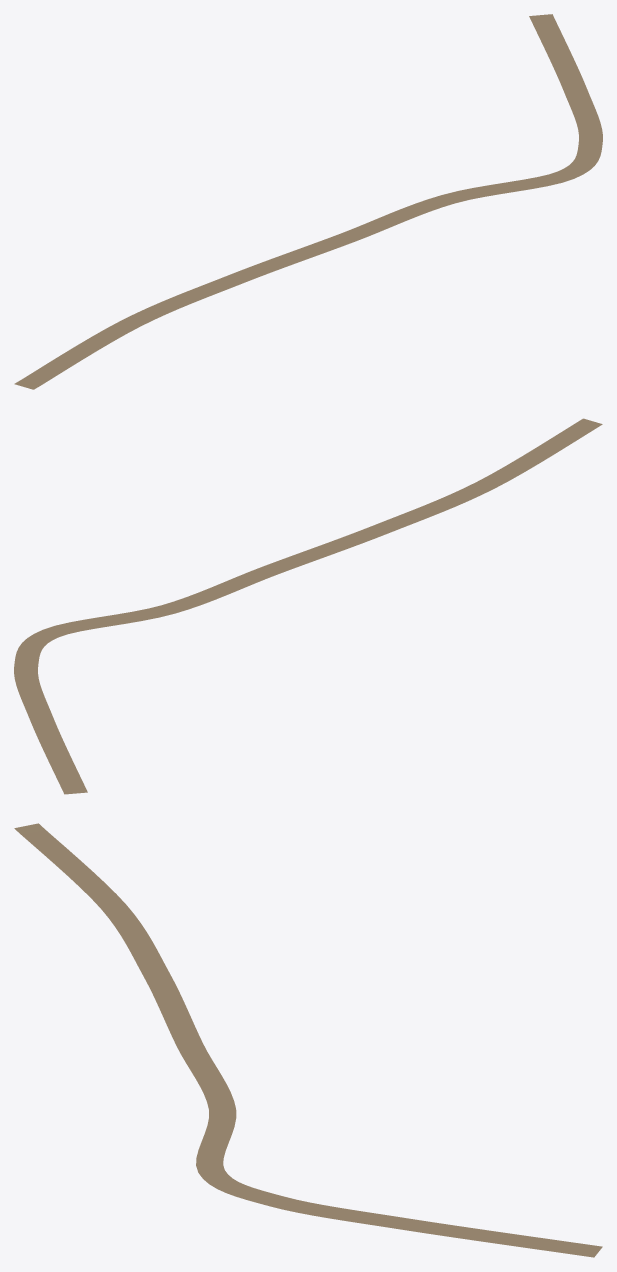
The model's file is Road_Main.fbx.
3 views of the same model, one above another, from view 1: azimuth 30°, elevation 25°; view 2: azimuth 210°, elevation 25°; view 3: azimuth 270°, elevation 25° (orthographic). The views are drawn at different scales.
Parts seen in each view (by area): view 1: Road_Main; view 2: Road_Main; view 3: Road_Main.
Part boxes in pixels (x1,y1,x2,y2): Road_Main: (14, 14, 602, 389); Road_Main: (14, 418, 602, 794); Road_Main: (14, 823, 602, 1257).
Bounding box in the file's own units: 188 × 108 × 0.0342.
